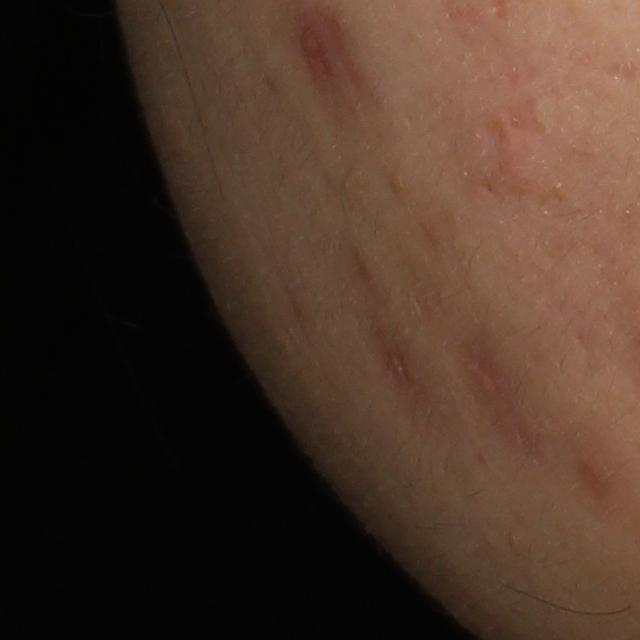atrophic_scar: (358, 259, 458, 415), (472, 344, 549, 462)
